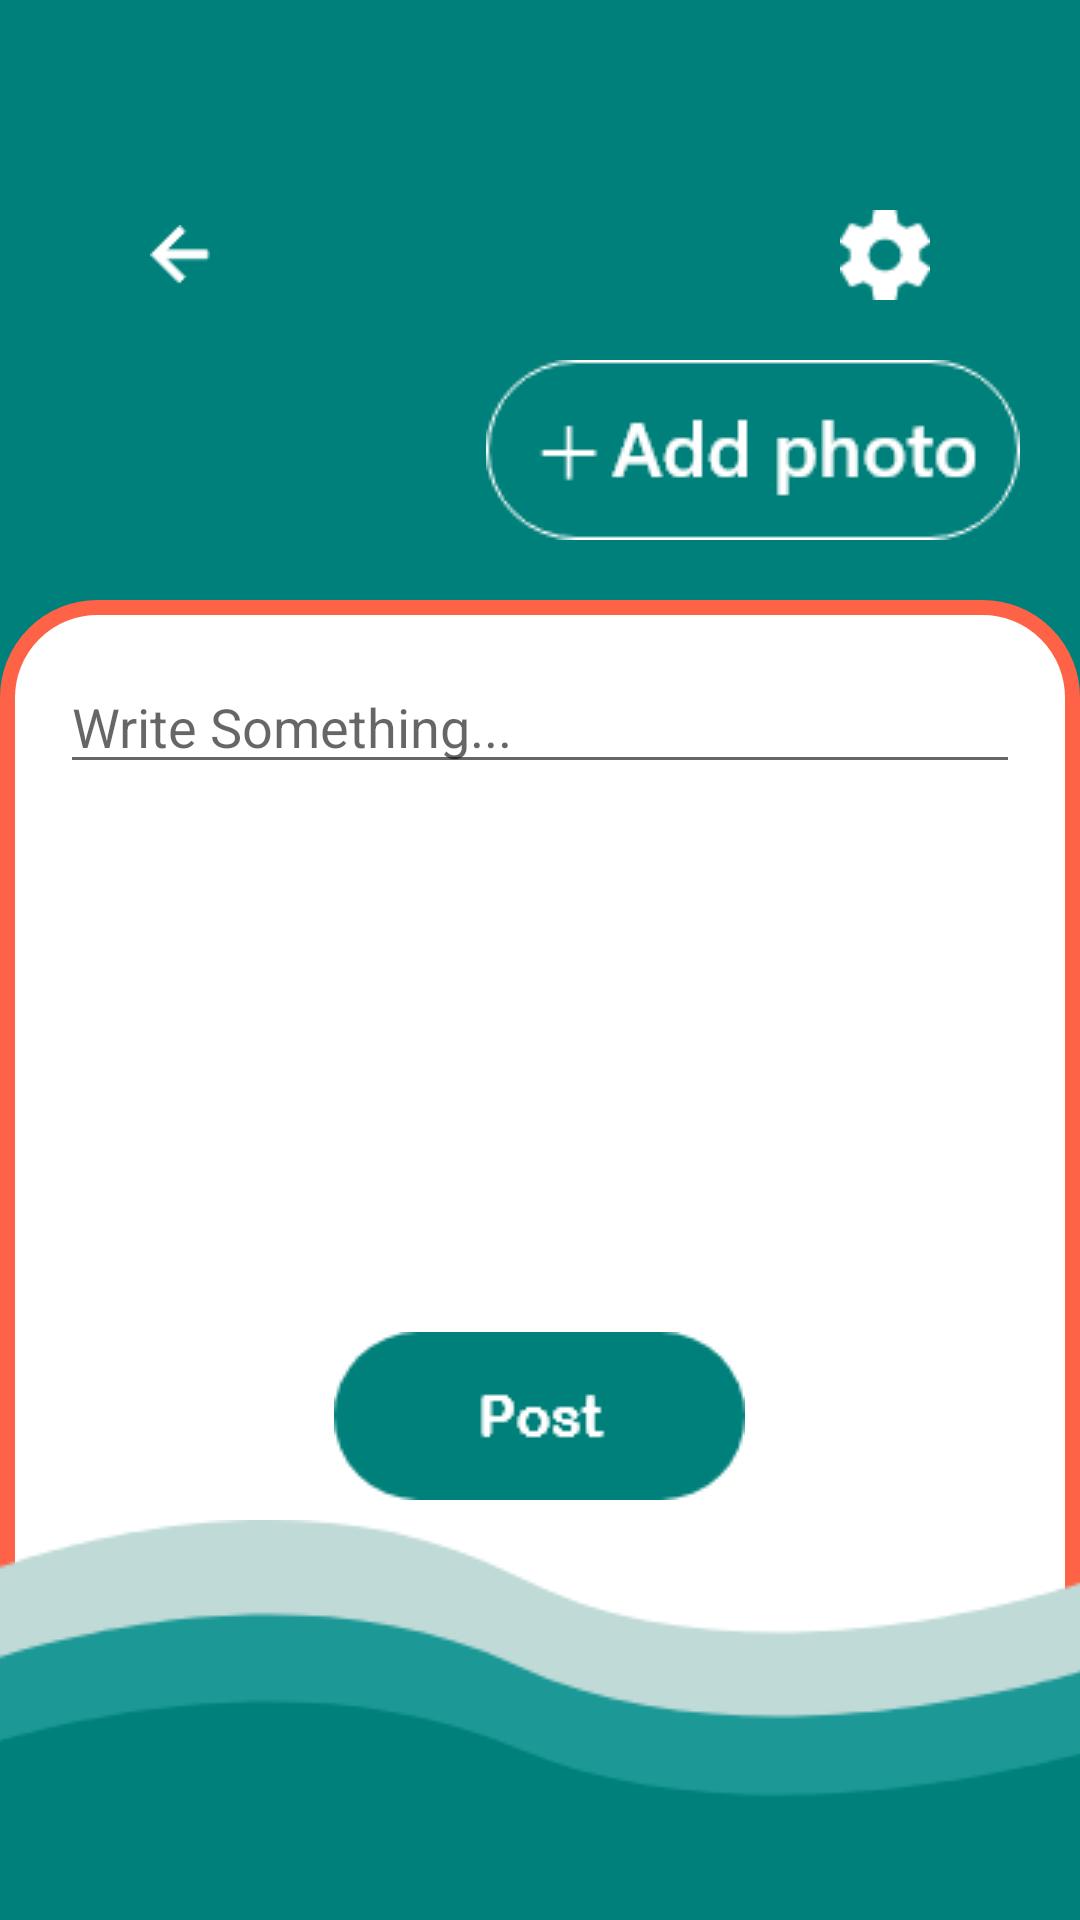

Screen size 1080×1920. Icon name, then its center in pixels as [x,y]:
arrow back: [180,254]
settings: [885,255]
